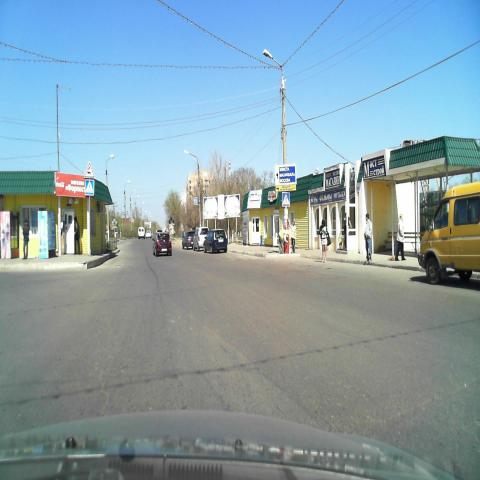1_2: (84, 162, 94, 179)
5_19_1: (84, 179, 94, 195)
